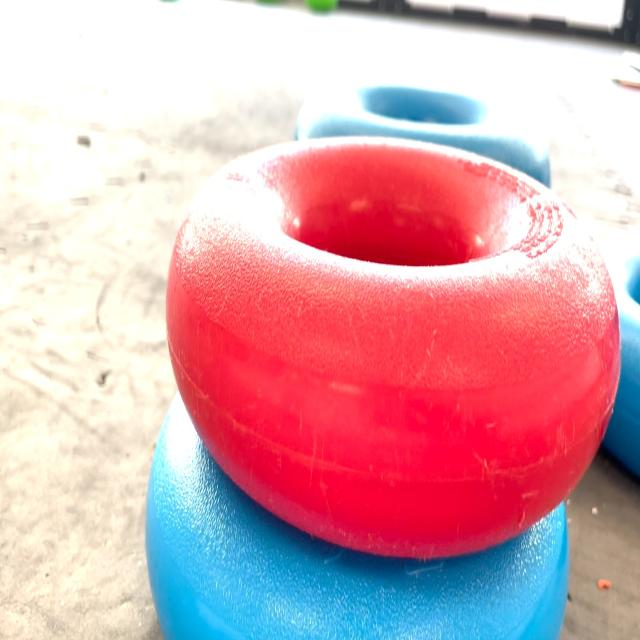Blue-Ring: (146, 393, 569, 638), (296, 87, 551, 187), (604, 253, 640, 476)
Red-Ring: (166, 140, 620, 558)
